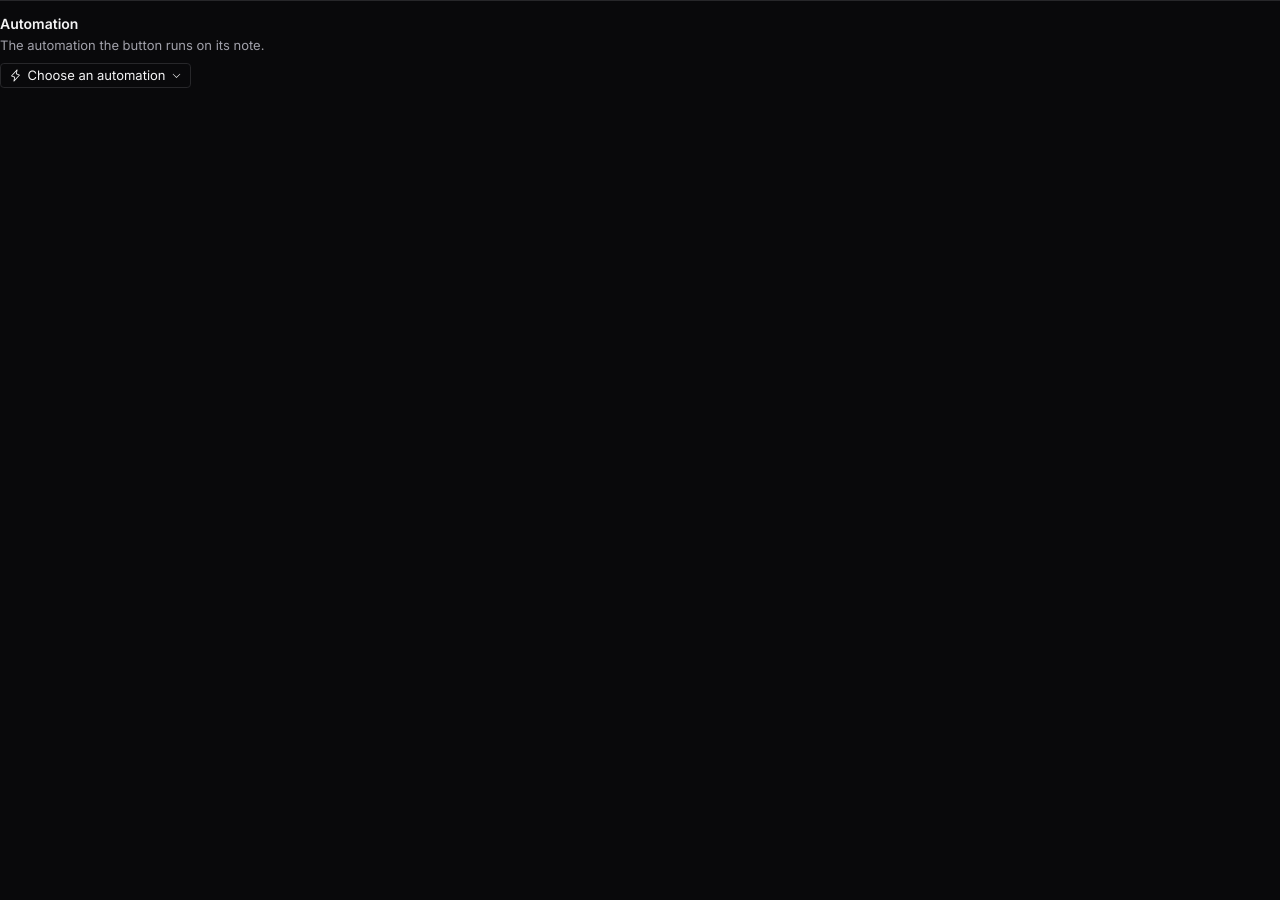
ButtonSettingsSection › New automation… makes a button rule for this type and chooses it
The width and height of the screenshot is (1280, 900).
Later steps or results of the test are not shown.
Step 1. Click the button "Choose an automation" → (96, 76), box top-left (0, 63), bottom-right (191, 88)
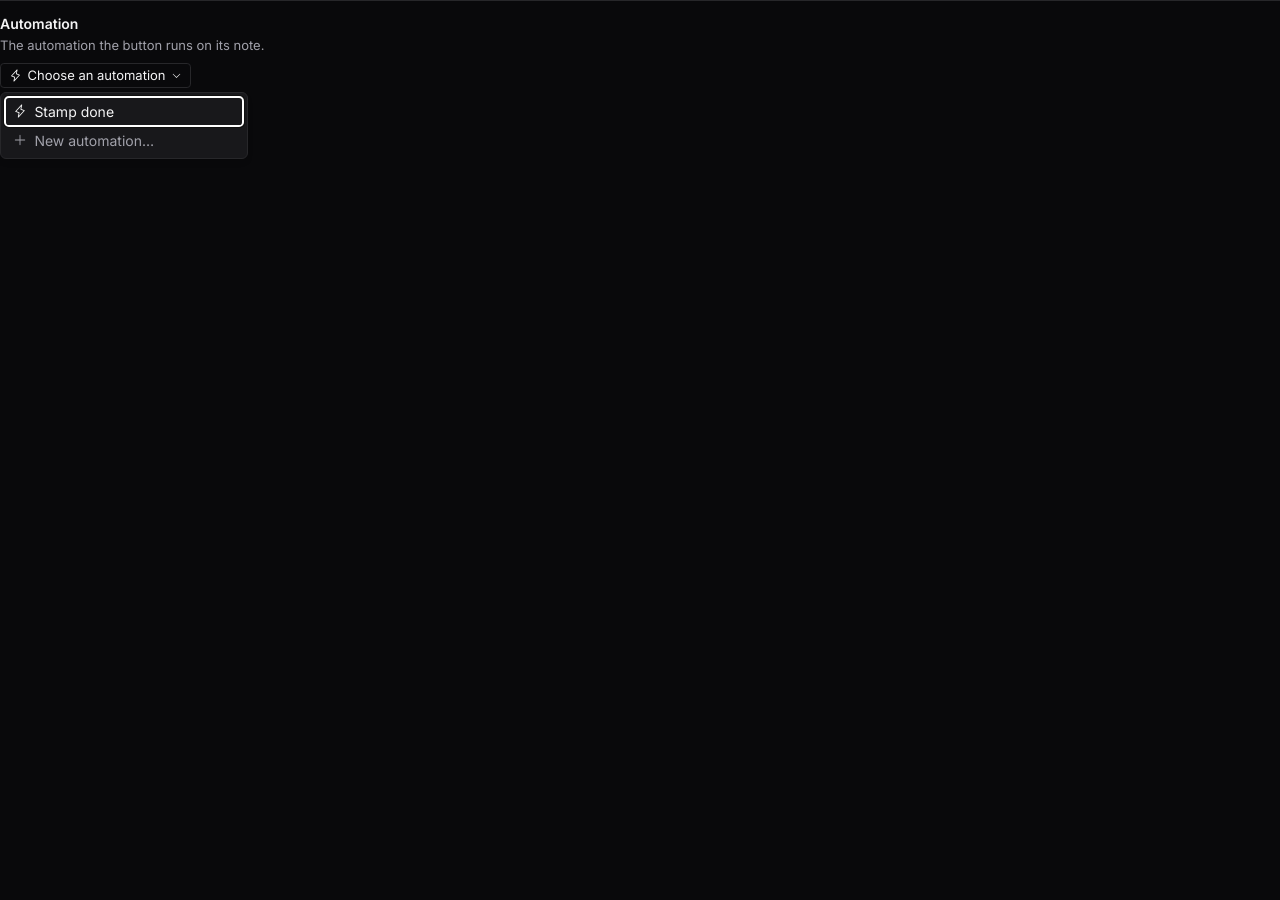
Step 2. Click the menu item "New automation…" → (124, 140), box top-left (5, 126), bottom-right (243, 154)
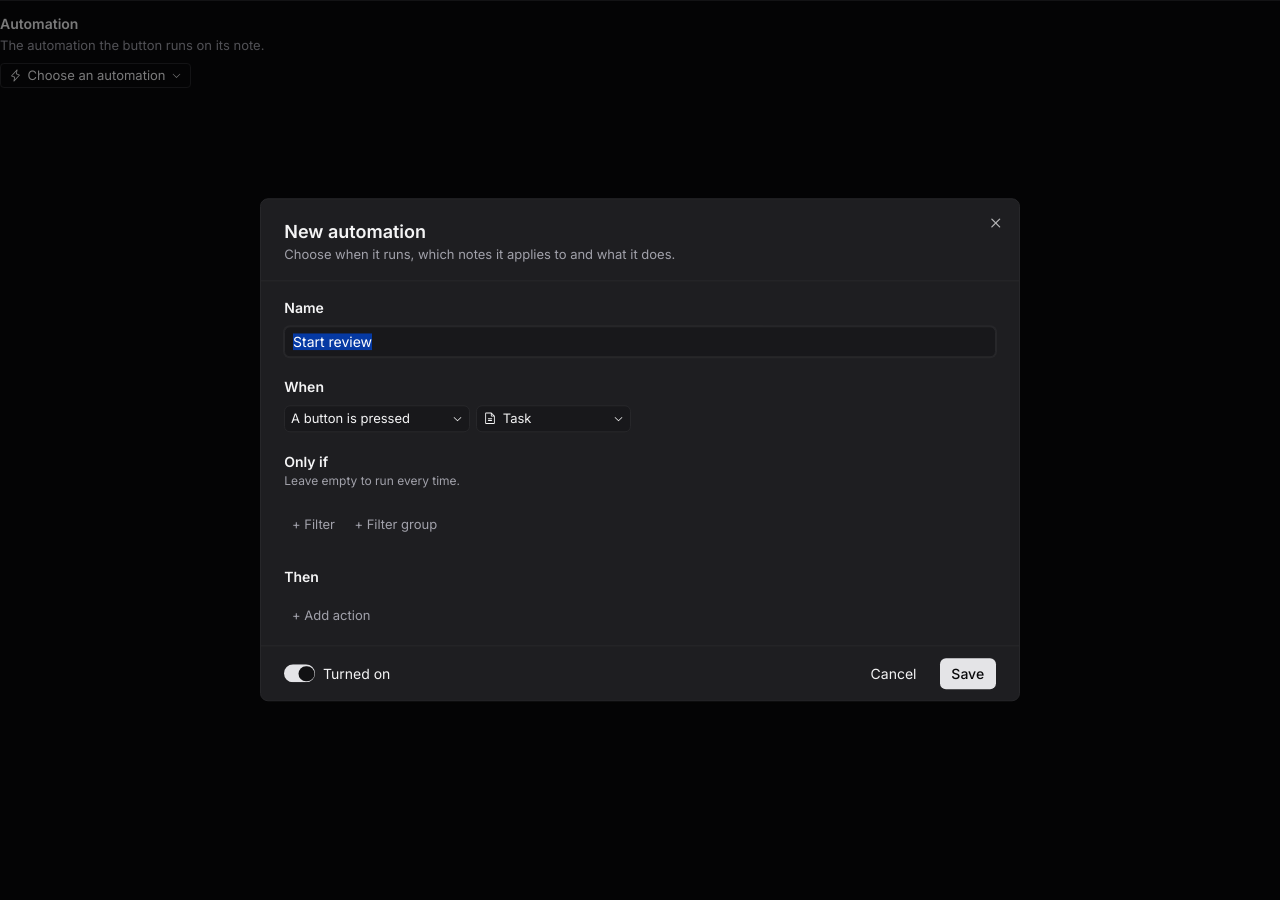
Expected: the dialog "New automation" is shown, top-left (260, 198), bottom-right (1020, 702)
Expected: the field named "Name" holds "Start review", top-left (284, 326), bottom-right (996, 357)
Expected: the button with aria-label "Notes" reads "Task", top-left (476, 405), bottom-right (631, 432)
